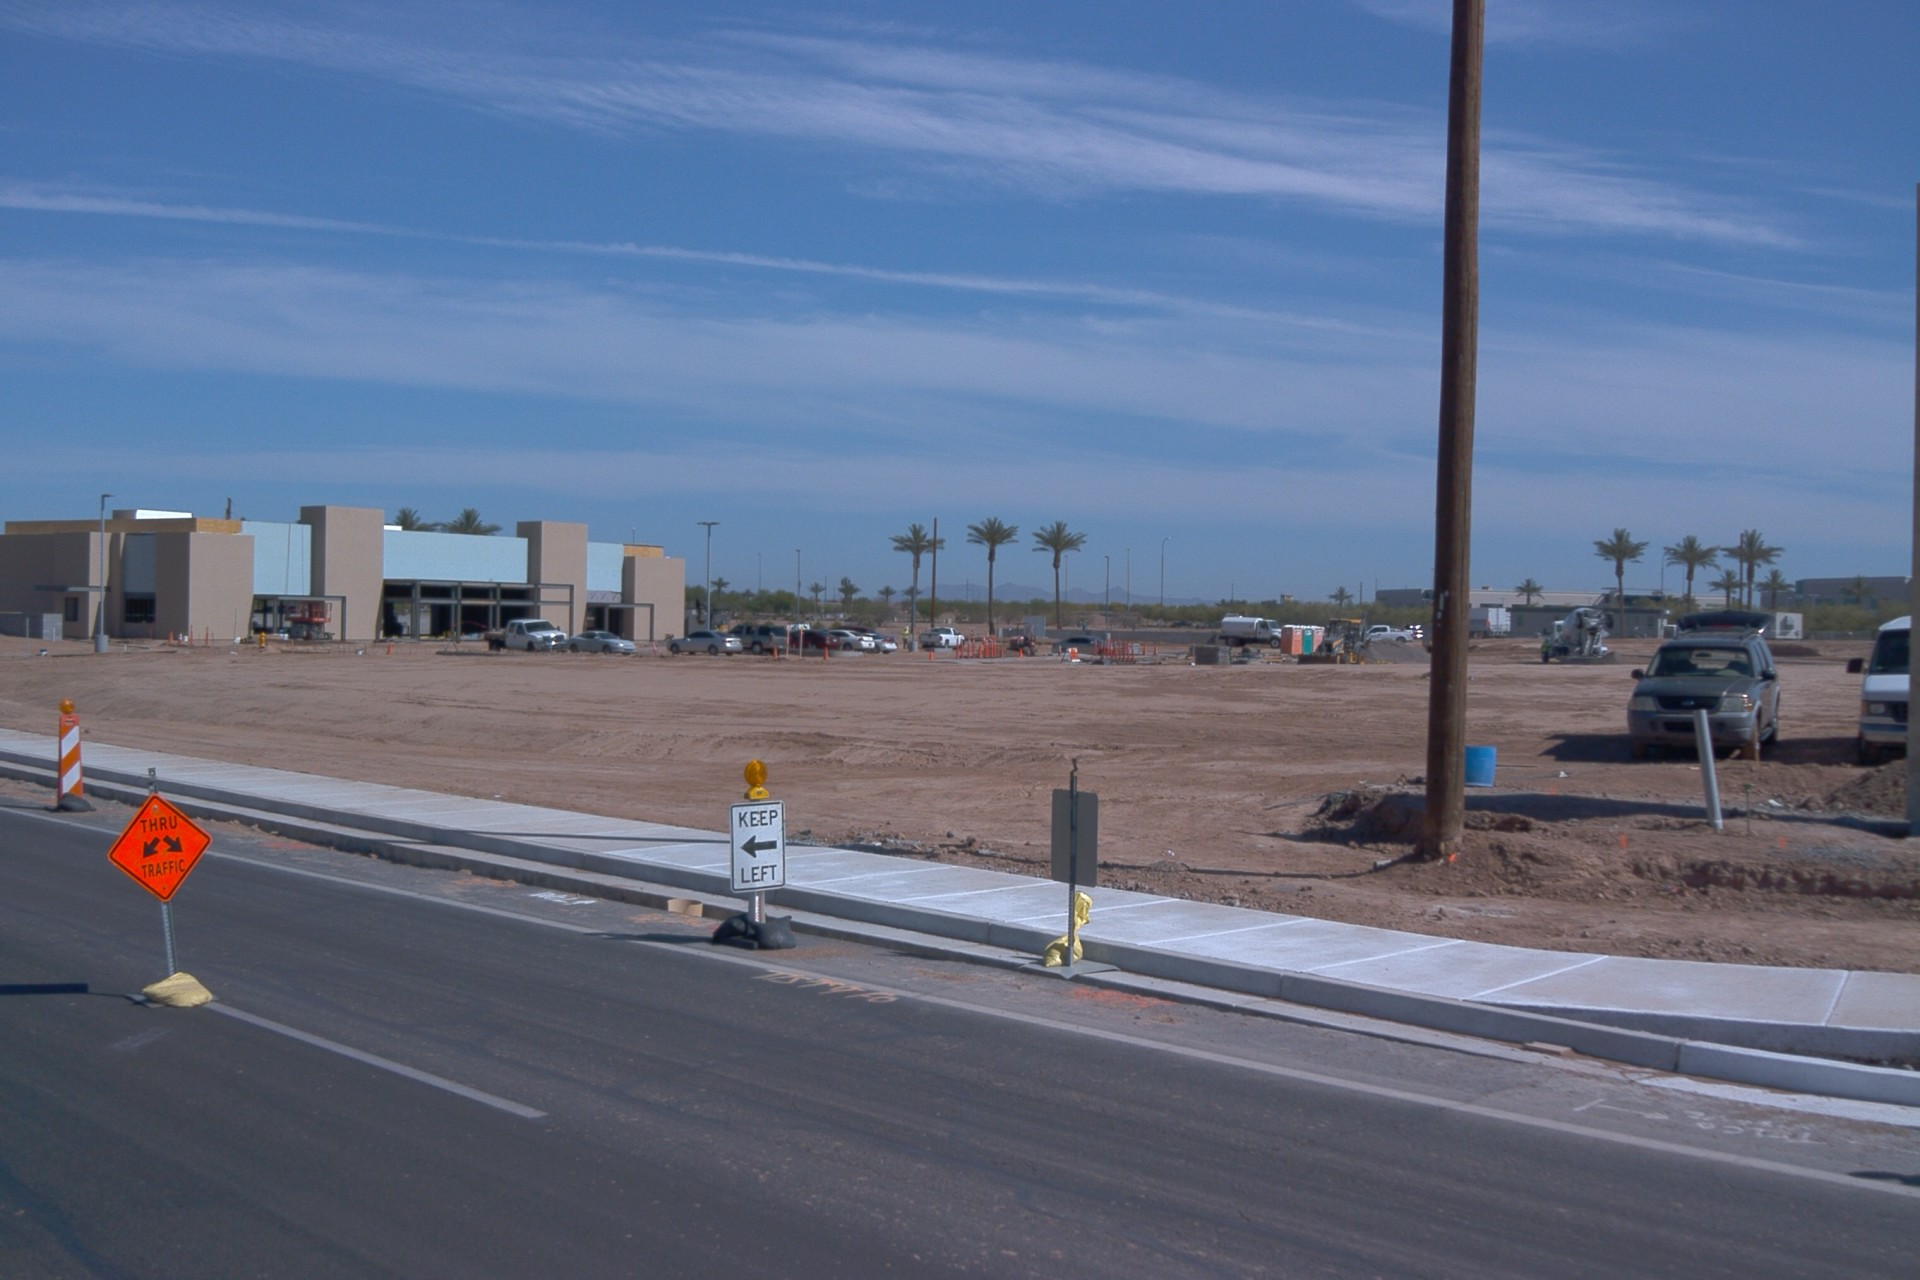TYPE_PEDESTRIAN: (1539, 635, 1553, 665), (899, 624, 911, 650)
TYPE_VEHICLE: (1621, 626, 1779, 763), (1843, 614, 1910, 762), (1540, 609, 1616, 667), (1296, 613, 1373, 668), (482, 618, 570, 658), (724, 621, 793, 660), (1217, 615, 1281, 654), (664, 629, 743, 657), (1047, 634, 1122, 656), (571, 629, 638, 652), (841, 627, 899, 653), (784, 628, 842, 653), (1357, 626, 1415, 647), (920, 626, 969, 650), (824, 629, 873, 652), (863, 631, 897, 652), (785, 622, 811, 634)
